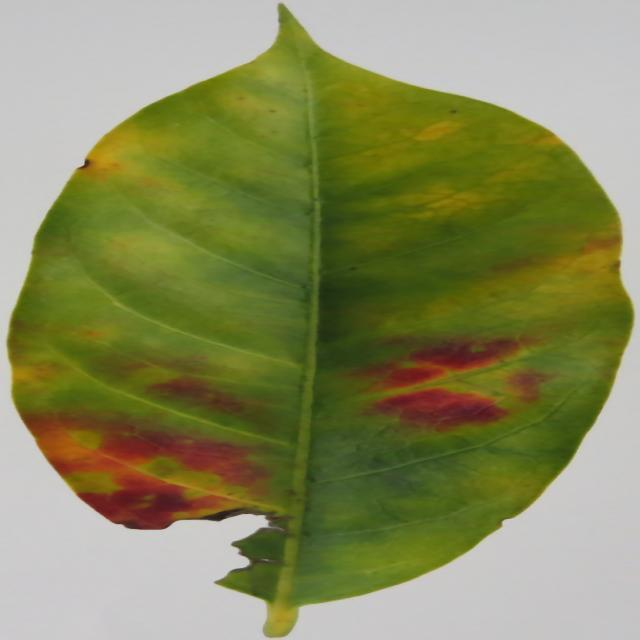DeficienciaNutricional-Fosforo: (9, 6, 630, 637)
